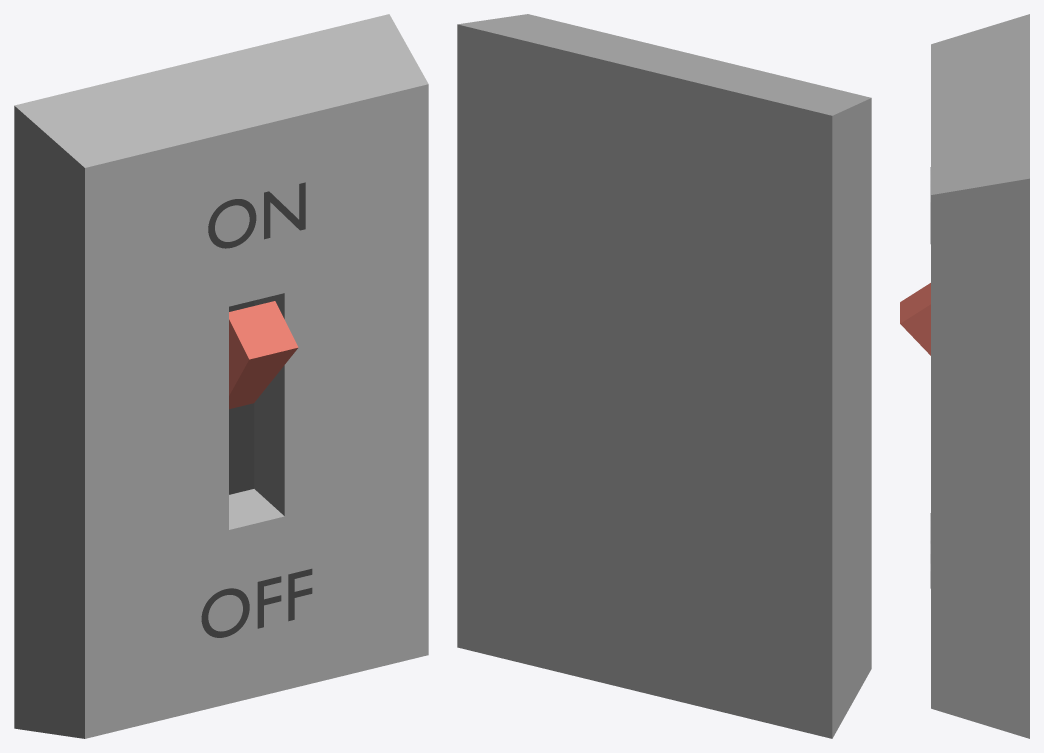
Rendered from ToggleSwitchOnOff.fbx.
The picture shows the model from 3 angles, left to right: view 1: azimuth 30°, elevation 25°; view 2: azimuth 150°, elevation 25°; view 3: azimuth 270°, elevation 25°; orthographic projection. The views are drawn at different scales.
Parts seen in each view (by area): view 1: Toggle_Switch_OnOff_Base, Toggle_Switch_OnOff; view 2: Toggle_Switch_OnOff_Base; view 3: Toggle_Switch_OnOff_Base, Toggle_Switch_OnOff.
Boxes of the visible parts, x1,y1,x2,y2 form: Toggle_Switch_OnOff_Base: [14, 14, 428, 738]; Toggle_Switch_OnOff: [229, 301, 298, 409]; Toggle_Switch_OnOff_Base: [457, 14, 871, 738]; Toggle_Switch_OnOff_Base: [930, 14, 1029, 738]; Toggle_Switch_OnOff: [900, 283, 930, 355].
Size of the model in its own units: 126 by 200 by 41.98.
